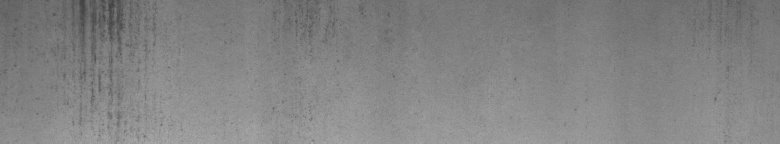ka: (53, 4, 155, 128)
